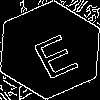E: (25, 25, 82, 80)
